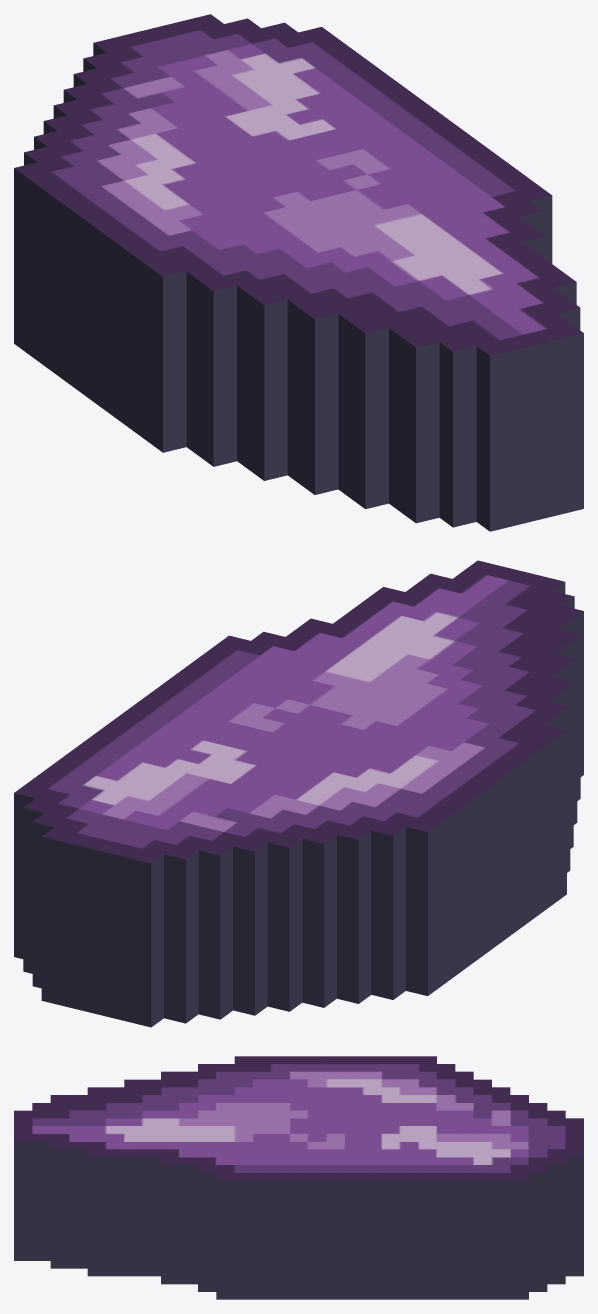
The model's file is shard.glb.
The picture shows the model from 3 angles, top to bottom: view 1: azimuth 30°, elevation 25°; view 2: azimuth 150°, elevation 25°; view 3: azimuth 270°, elevation 25°; orthographic projection. The views are drawn at different scales.
Visible parts, largest first — view 1: shard1-1-col; view 2: shard1-1-col; view 3: shard1-1-col.
Part boxes in pixels (bbox=[...]): shard1-1-col: bbox=[14, 14, 583, 531]; shard1-1-col: bbox=[14, 560, 583, 1027]; shard1-1-col: bbox=[14, 1056, 583, 1299].
Bounding box in the file's own units: 0.5 × 0.2235 × 0.9688.
Materials: 2 (1 with a texture image).
